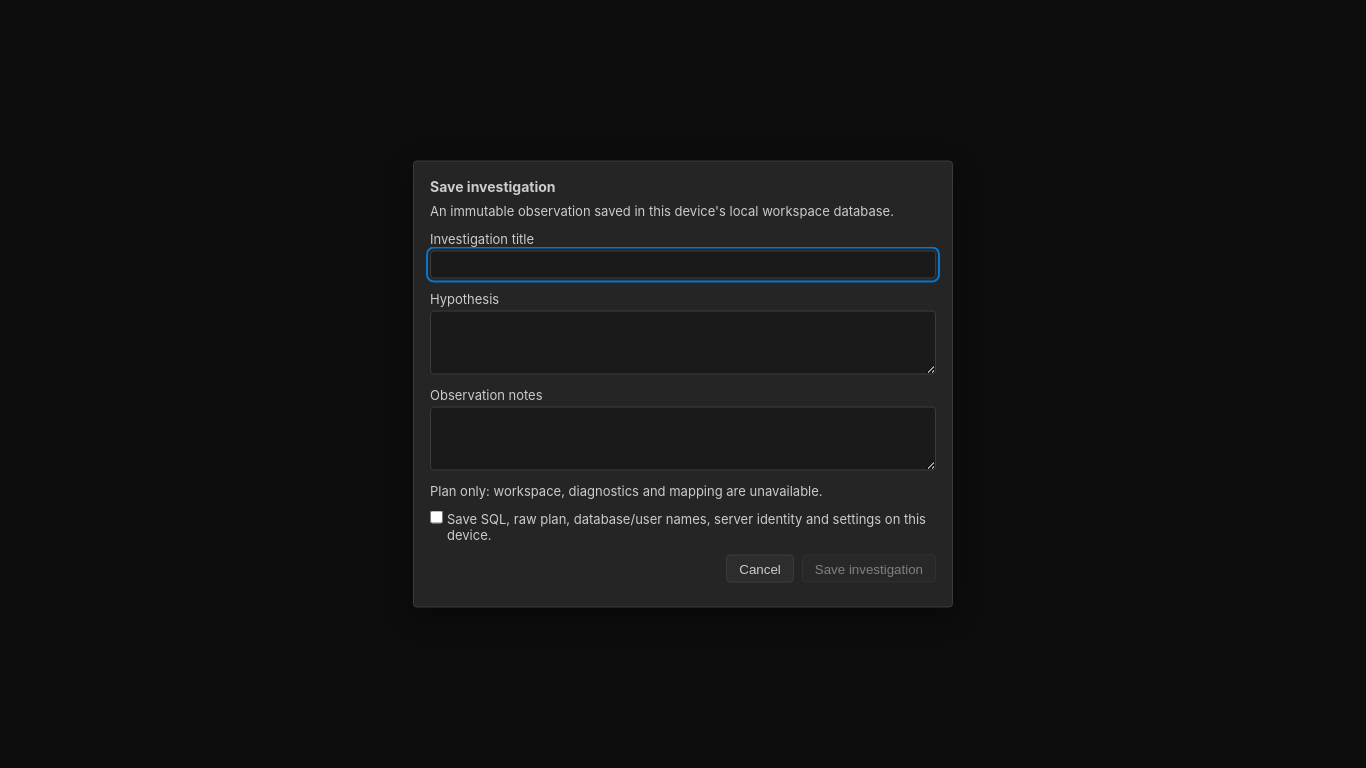
investigation save operation identity › retains notes and request ID after an unknown outcome; guards duplicate submissions
Later steps or results of the test are not shown.
Type "investigate" into the field labelled "Investigation title" at {"x": 683, "y": 264}, box [430,250,936,278]
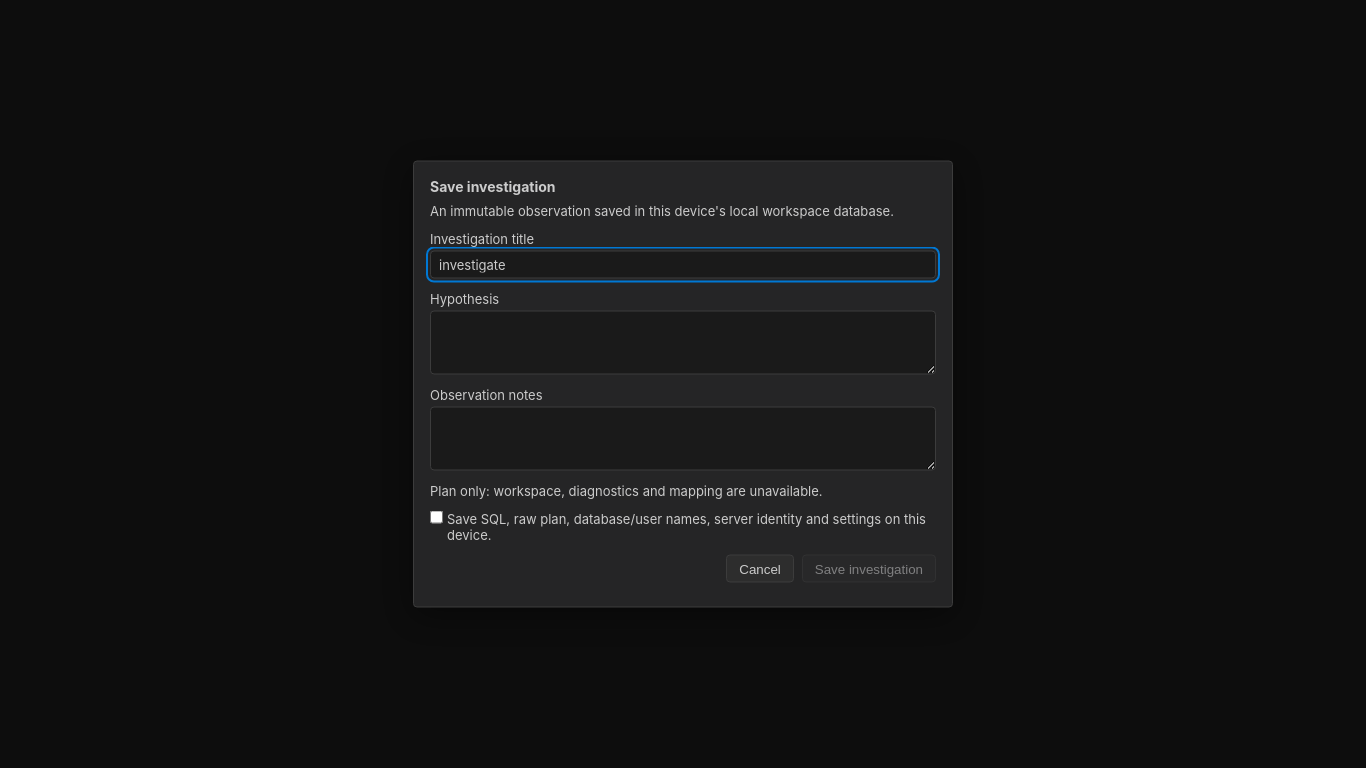
Type "preserve these notes" into the text box labelled "Observation notes" at {"x": 683, "y": 438}, box [430,406,936,470]
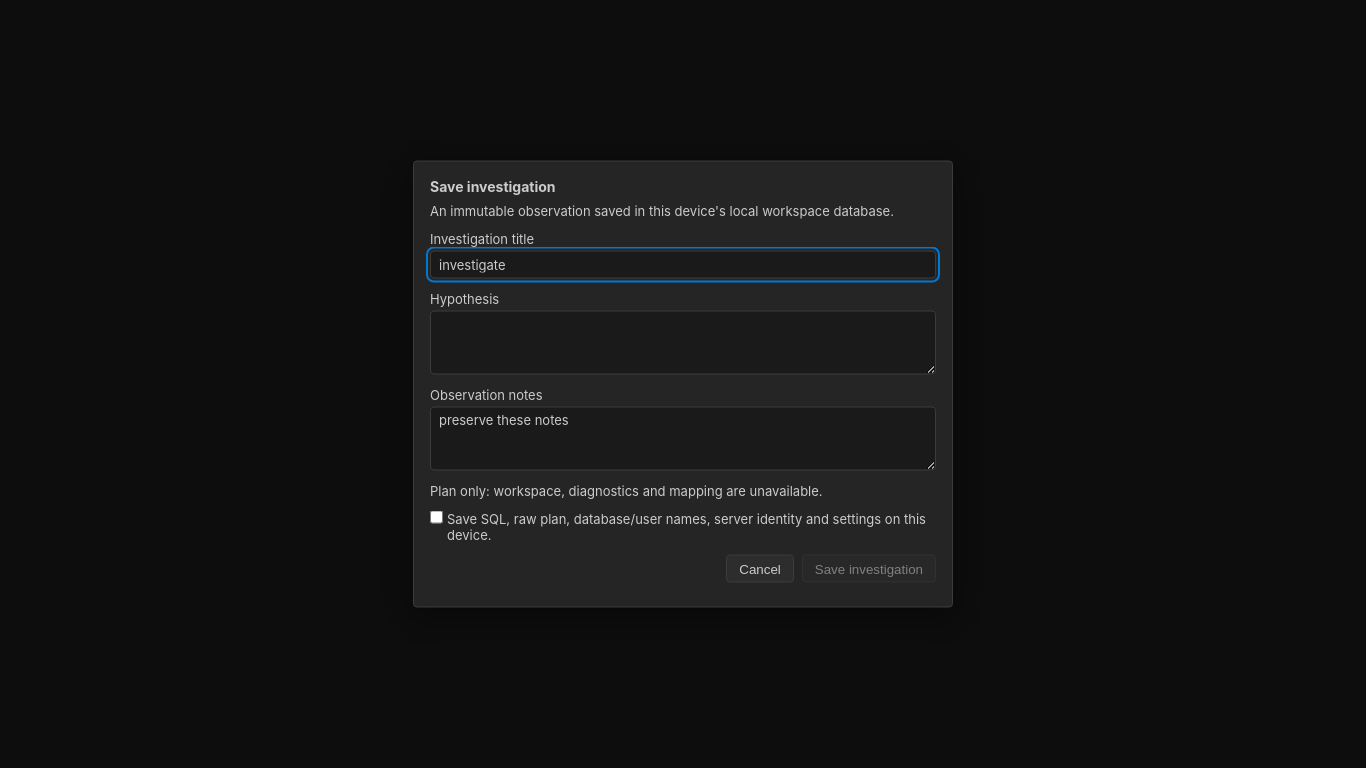
Click the checkbox at {"x": 436, "y": 517}, box [430,510,443,524]
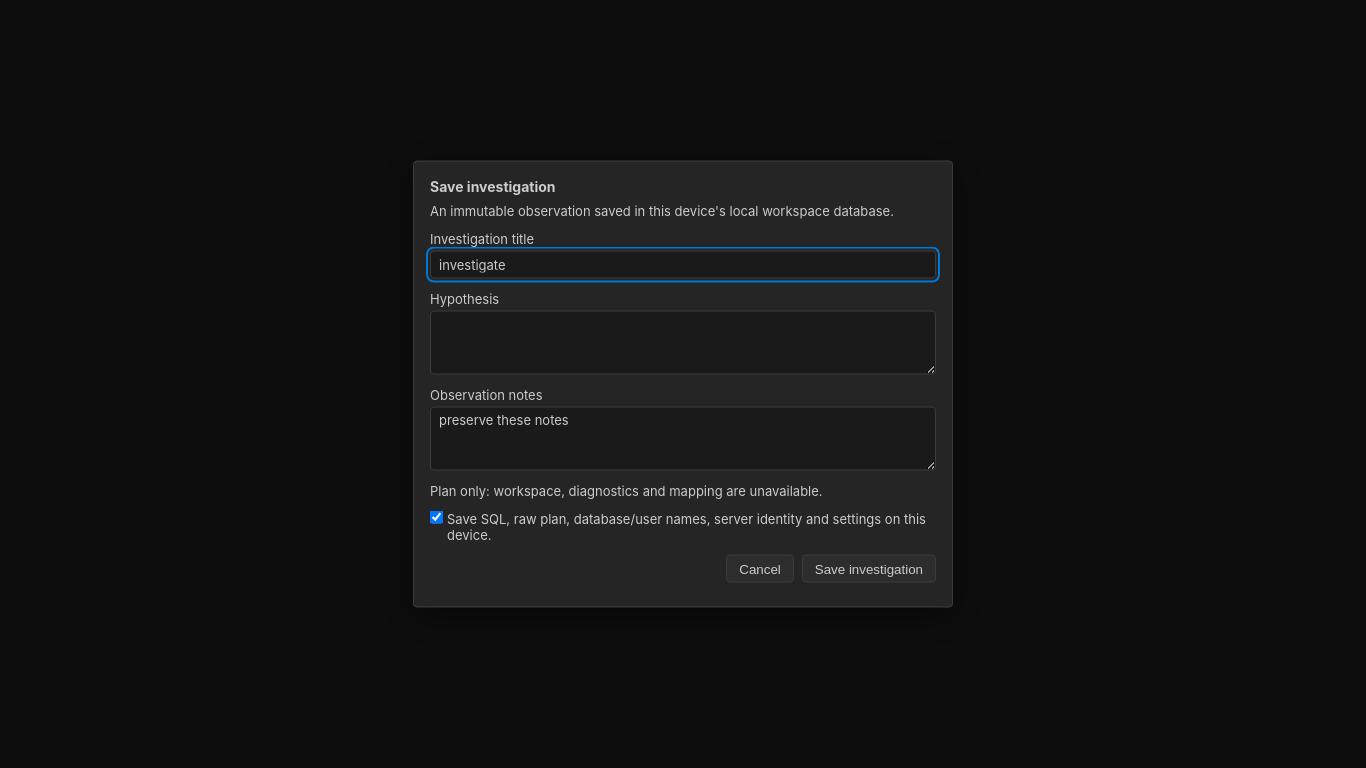
Submit the form named "Save investigation", box [430,230,936,582]
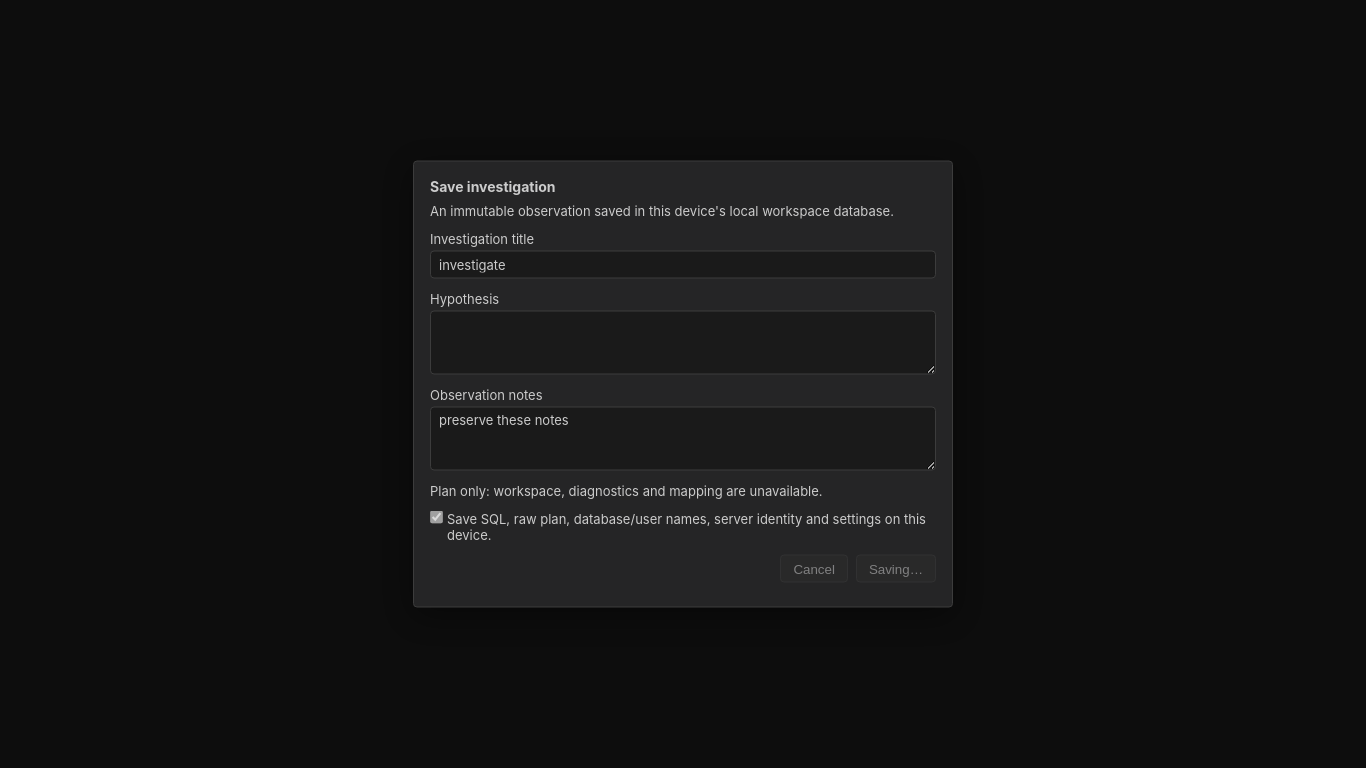
Submit the form named "Save investigation", box [430,230,936,582]
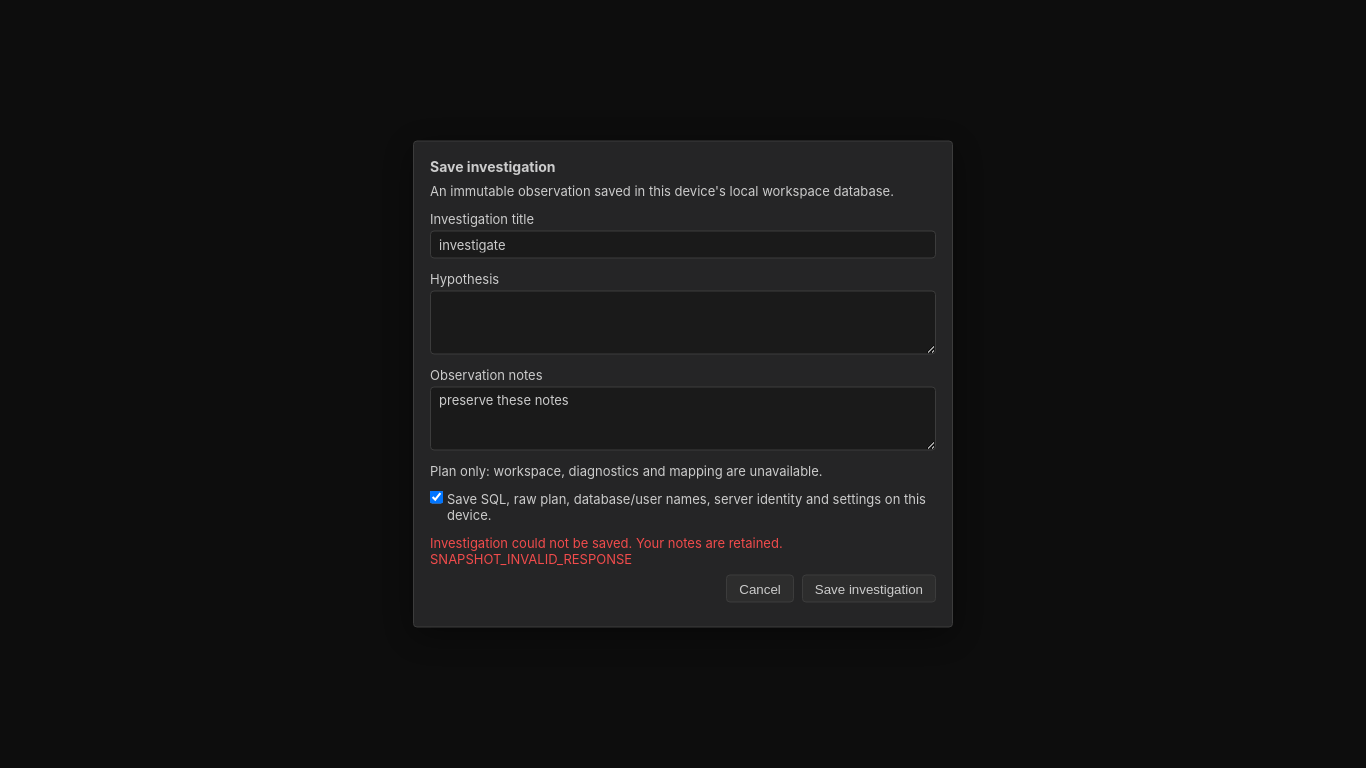
Now the message shows "SNAPSHOT_INVALID_RESPONSE", box [430,550,632,566]
